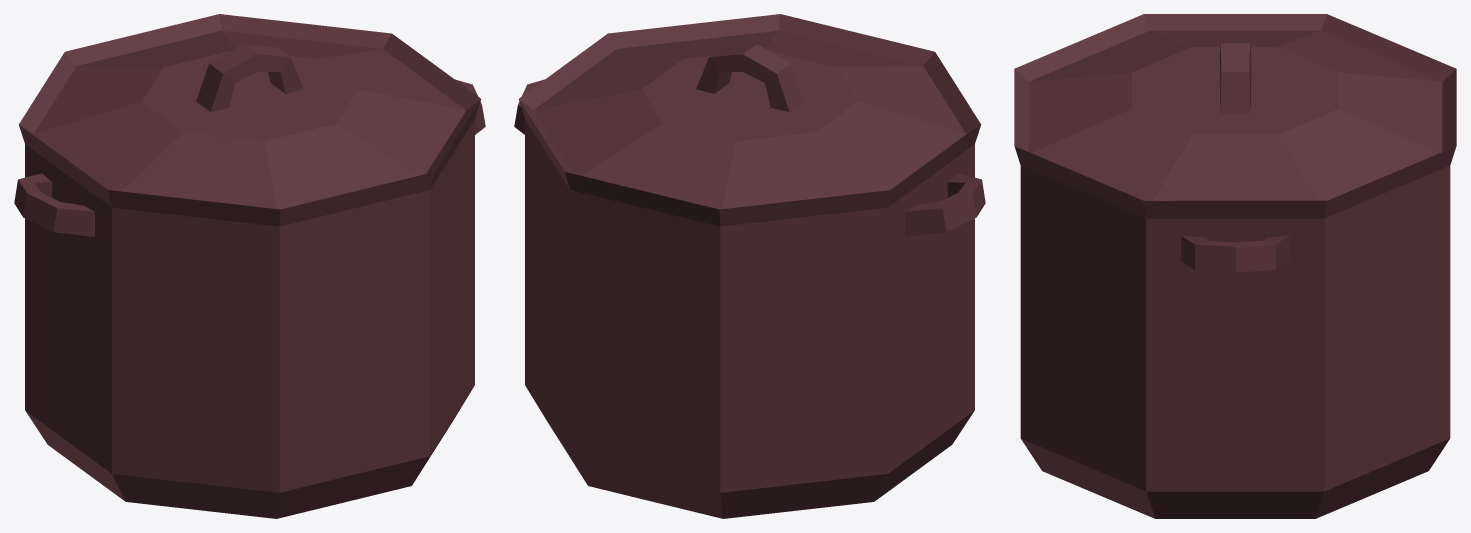
File: pot-lid-big.fbx
The picture shows the model from 3 angles, left to right: view 1: azimuth 30°, elevation 25°; view 2: azimuth 150°, elevation 25°; view 3: azimuth 270°, elevation 25°; orthographic projection. The views are drawn at different scales.
Parts seen in each view (by area): view 1: pot-lid-big; view 2: pot-lid-big; view 3: pot-lid-big.
Part boxes in pixels (x1,y1,x2,y2): pot-lid-big: (14, 14, 485, 518); pot-lid-big: (514, 14, 985, 518); pot-lid-big: (1014, 14, 1456, 518).
Size of the model in its own units: 0.341 by 0.2763 by 0.2809.
